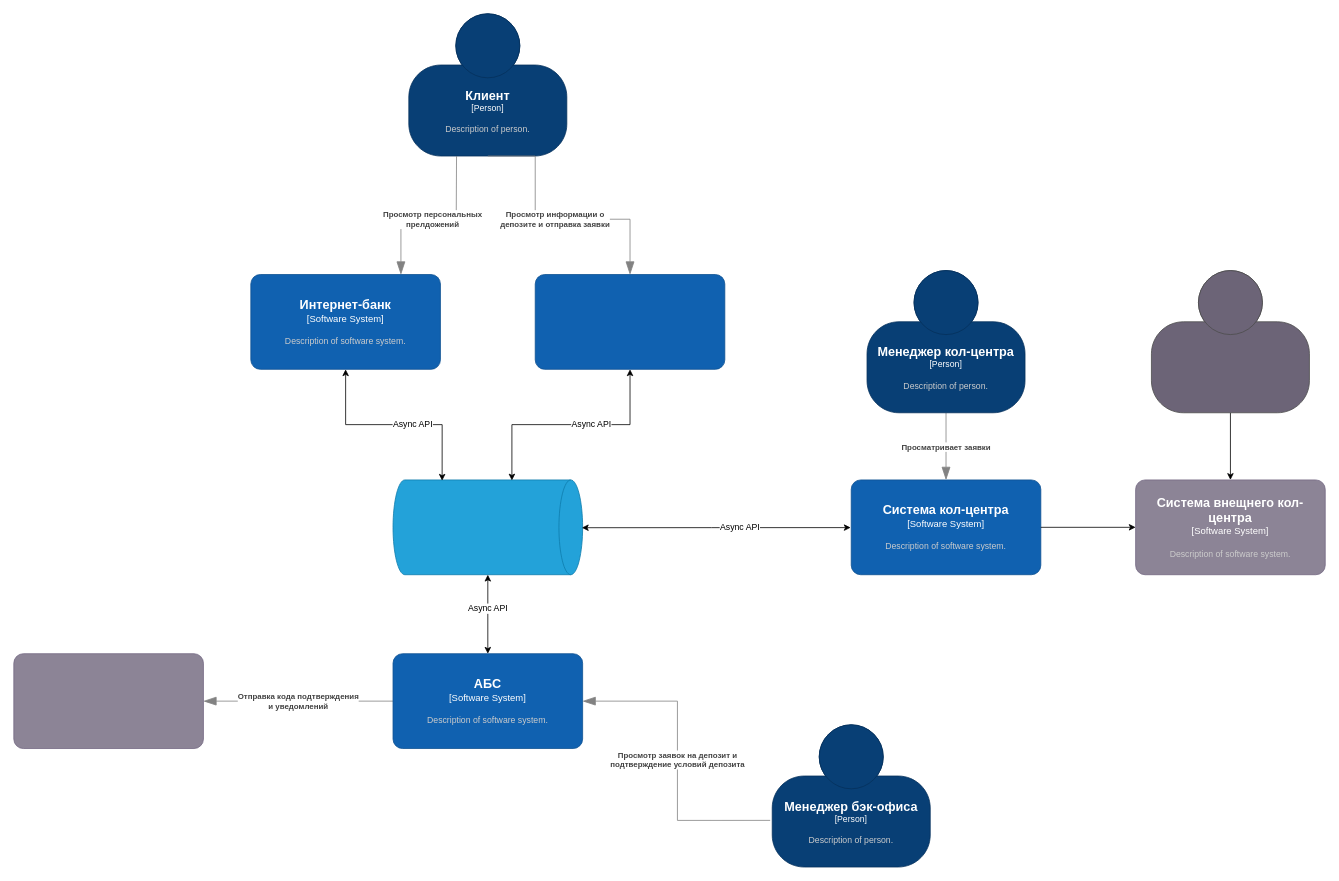
The diagram is 1339 pixels wide and 881 high, and some of its shapes have lost their labels. The centre of each missing label's shape, as x and y in pixels:
"Message bus [: Apache Kafka]" belongs at point 487,527.
"Оператор партнерского кол-центра [Person] Description of person." belongs at point 1230,341.
"Сайт [Software System] Description of software system." belongs at point 629,321.
"СМС-шлюз [Software System] Description of external software system." belongs at point 108,701.
